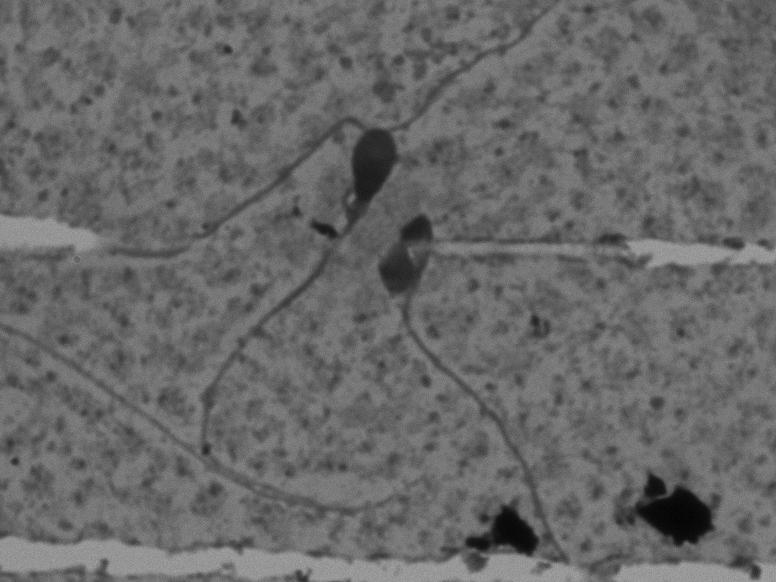Abnormal: (166, 112, 444, 524), (356, 201, 584, 578)
